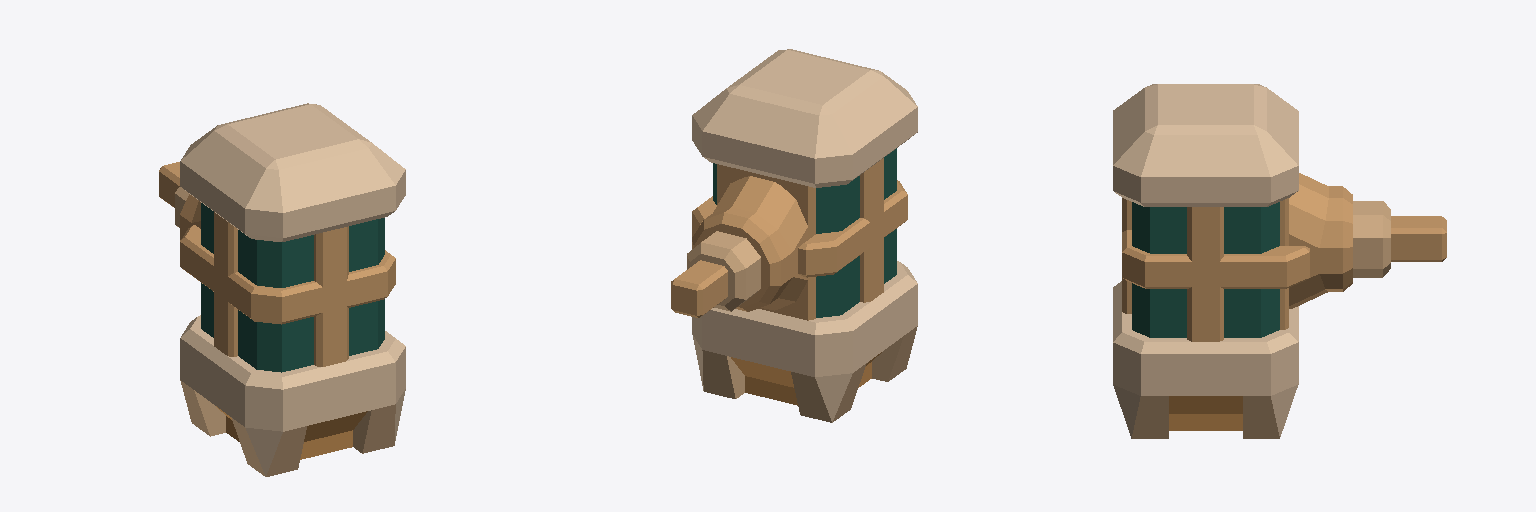
Rendered from Puzzle_Sliding_Key.obj.
3 renders of one model, left to right at view 1: azimuth 30°, elevation 25°; view 2: azimuth 150°, elevation 25°; view 3: azimuth 270°, elevation 25°, orthographic.
Visible parts, largest first — view 1: object2, object1; view 2: object2, object1; view 3: object2, object1.
Boxes of the visible parts, x1=… form: object2: x1=159, y1=103, x2=405, y2=476; object1: x1=201, y1=203, x2=384, y2=372; object2: x1=671, y1=49, x2=917, y2=422; object1: x1=713, y1=148, x2=896, y2=317; object2: x1=1113, y1=84, x2=1446, y2=438; object1: x1=1132, y1=202, x2=1279, y2=337.
Bounding box in the file's own units: 0.5 × 0.9 × 0.9.